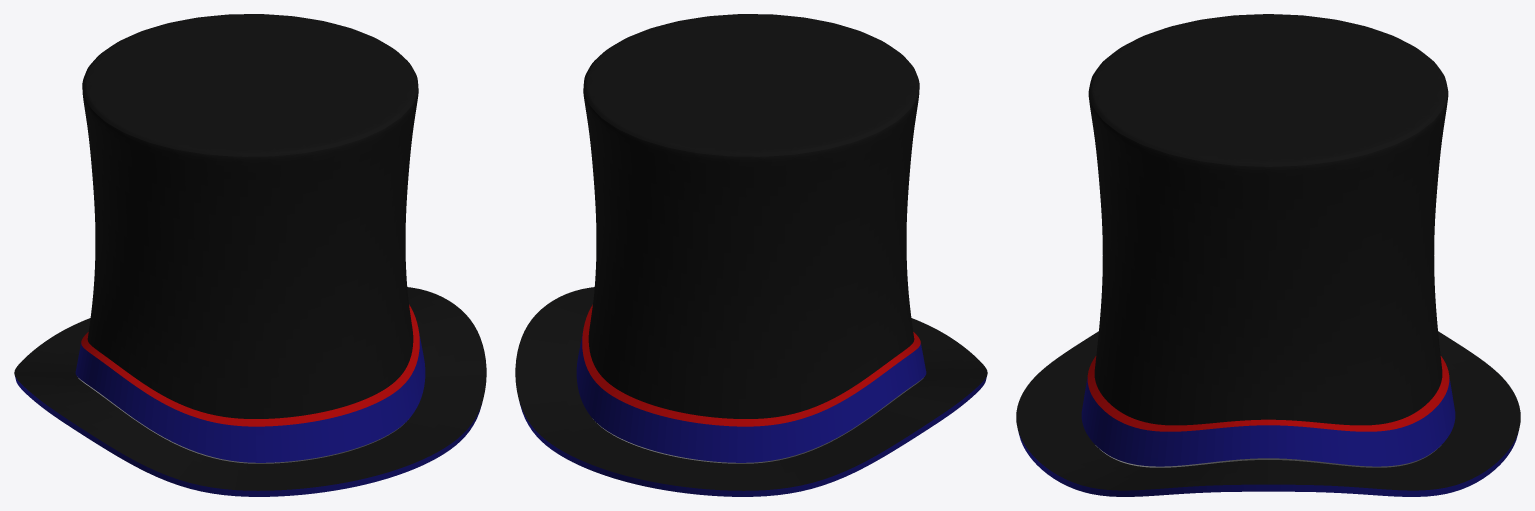
Rendered from hat.fbx.
3 views of the same model, side by side, from view 1: azimuth 30°, elevation 25°; view 2: azimuth 150°, elevation 25°; view 3: azimuth 270°, elevation 25° (orthographic). The views are drawn at different scales.
Visible parts, largest first — view 1: Cylinder; view 2: Cylinder; view 3: Cylinder.
Boxes of the visible parts, x1,y1,x2,y2 form: Cylinder: [14, 14, 486, 496]; Cylinder: [515, 14, 987, 496]; Cylinder: [1016, 14, 1520, 496].
Size of the model in its own units: 2772 by 2046 by 2772.
